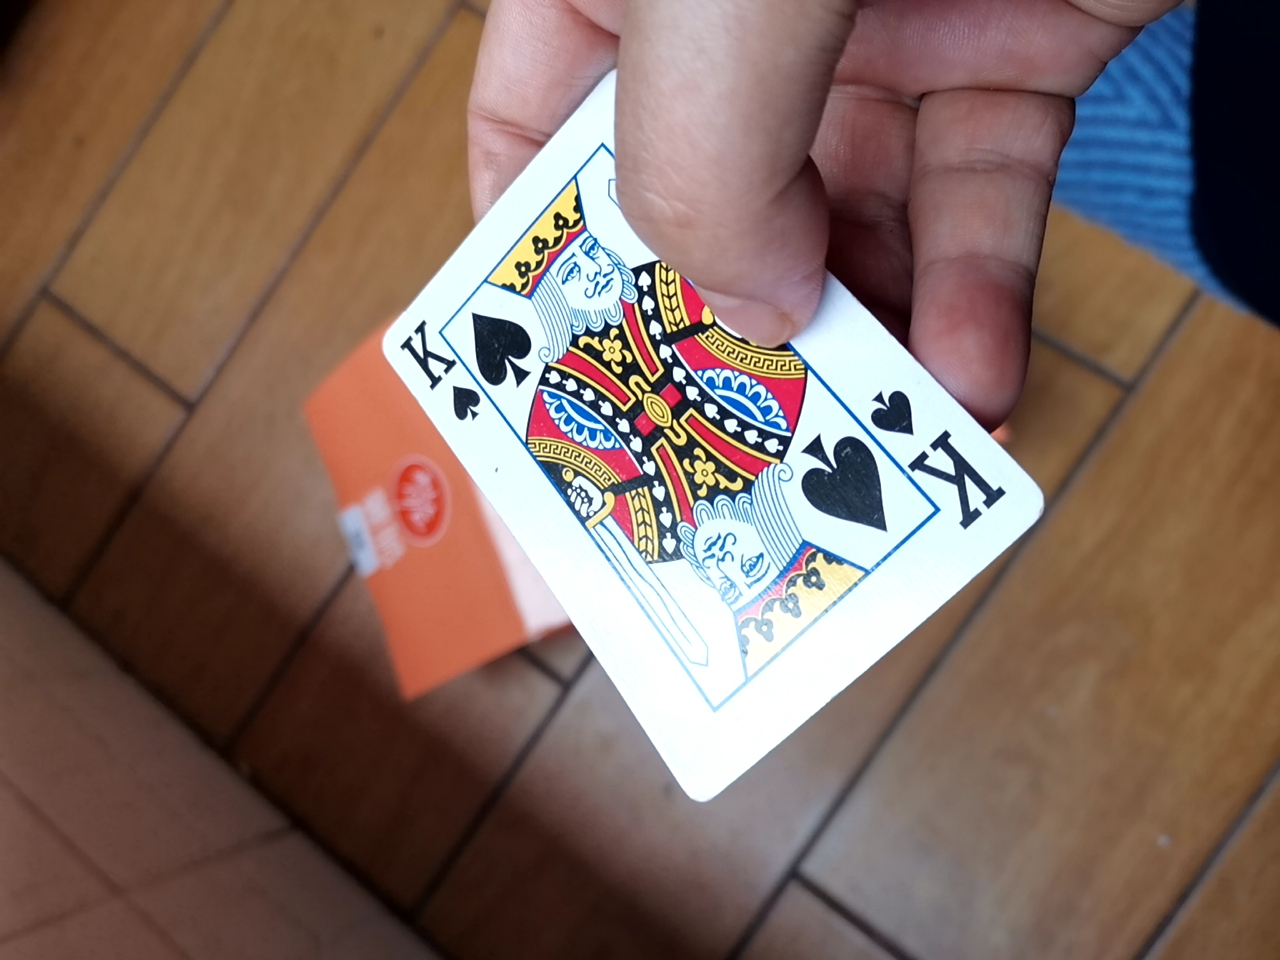ht k: (357, 82, 1048, 845)
